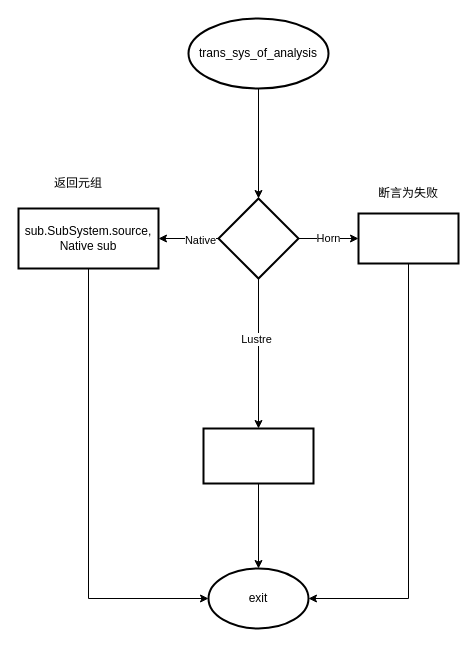
The diagram is 476 pixels wide and 646 high, and some of its shapes have lost their labels. Here are the shapes that lost their labels. From the top down, the centre of each, then its label:
At point (408, 238): "assert false".
At point (258, 455): "LustreTransSys. trans_sys_of_nodes".
